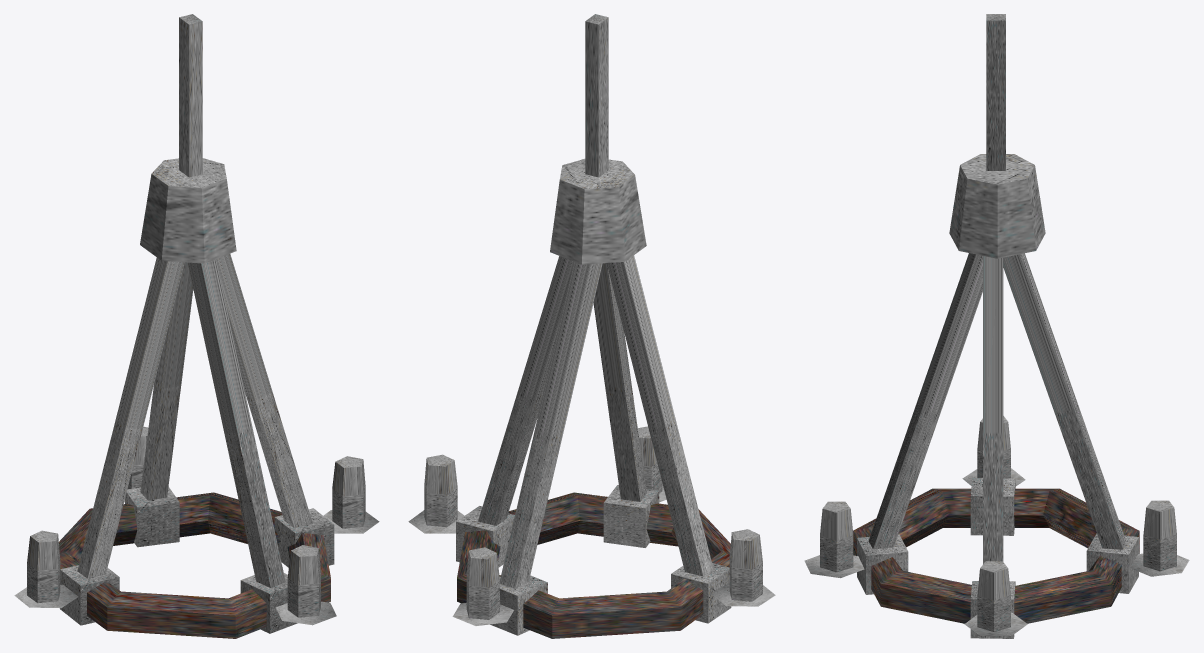
File: chandelier.fbx
The picture shows the model from 3 angles, left to right: view 1: azimuth 30°, elevation 25°; view 2: azimuth 150°, elevation 25°; view 3: azimuth 270°, elevation 25°; orthographic projection.
Visible parts, largest first — view 1: pTorus2; view 2: pTorus2; view 3: pTorus2.
Part boxes in pixels (box(x1,y1,x2,y2)): pTorus2: box(14, 14, 379, 638); pTorus2: box(408, 14, 775, 638); pTorus2: box(804, 14, 1189, 638).
Size of the model in its own units: 9.21 by 14.23 by 8.9.
Materials: 2 (2 with a texture image).
